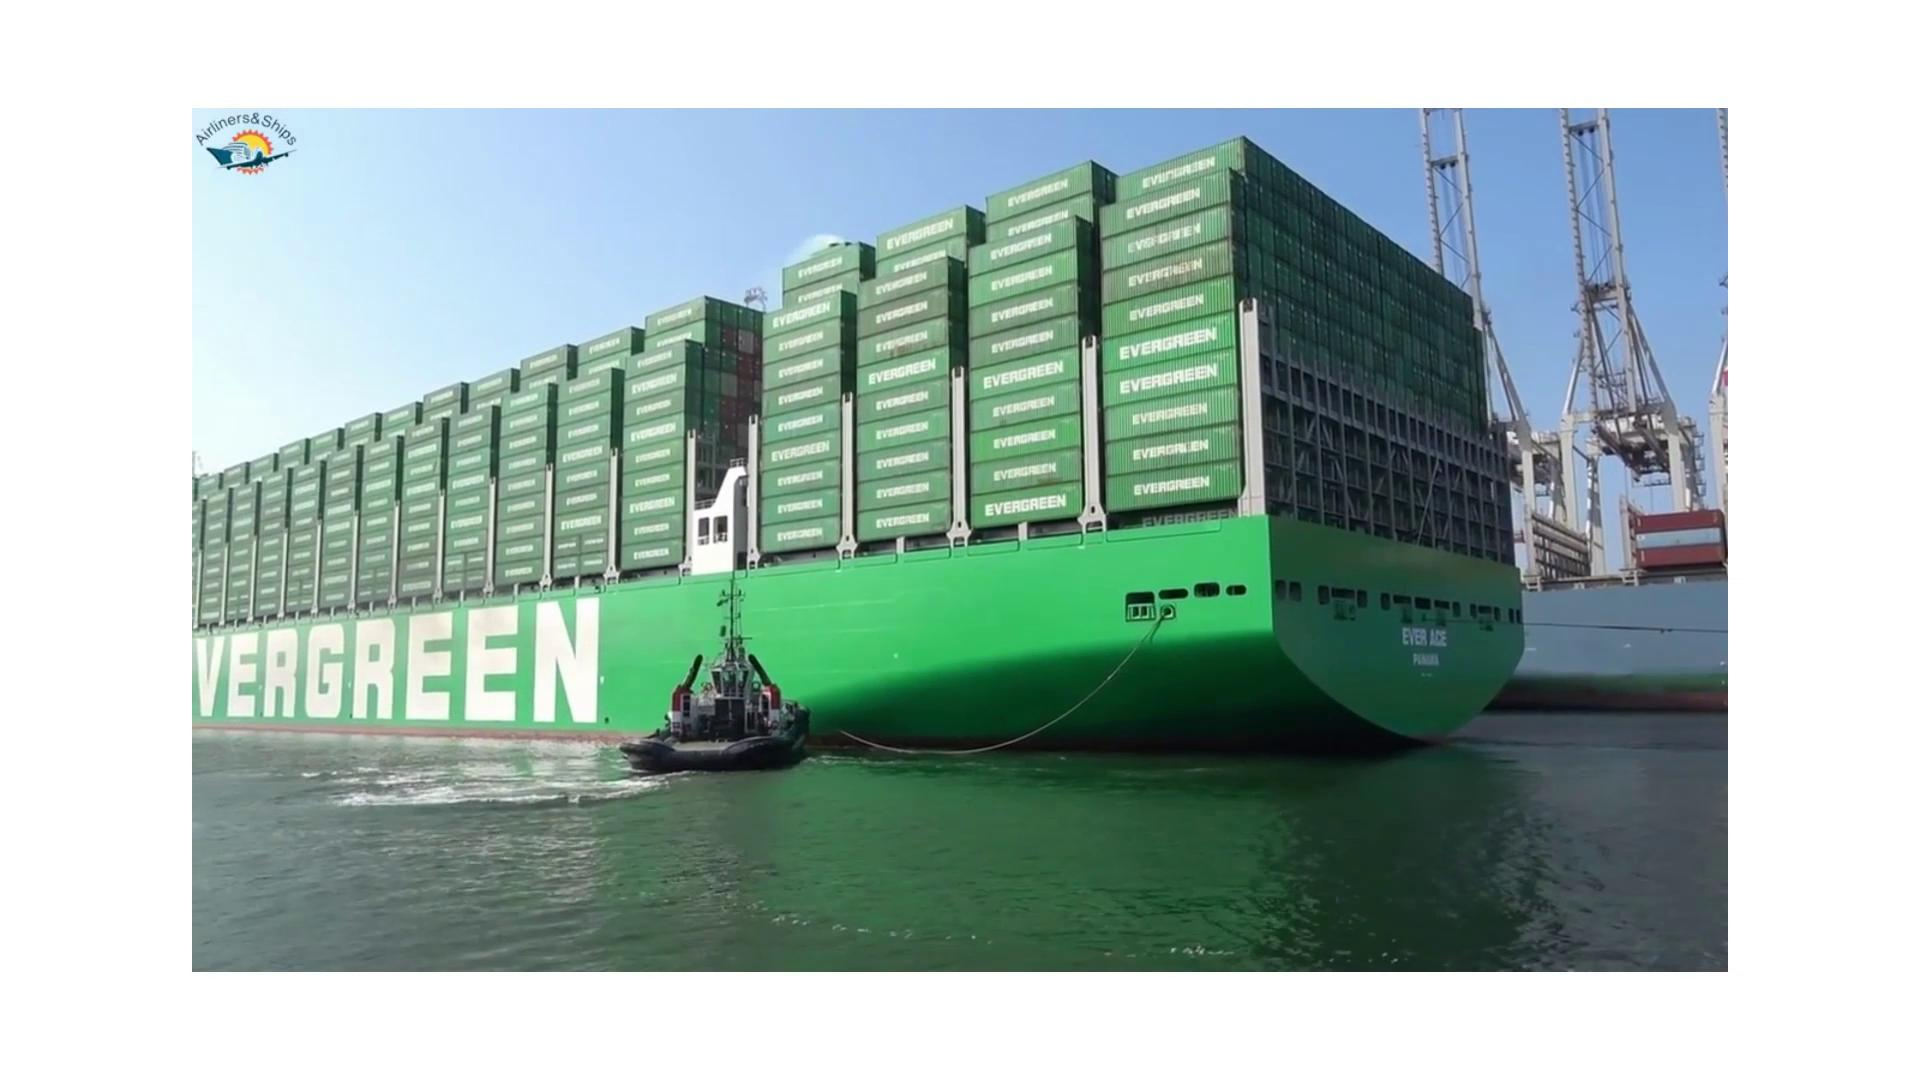OCR: (199, 549, 654, 769)
